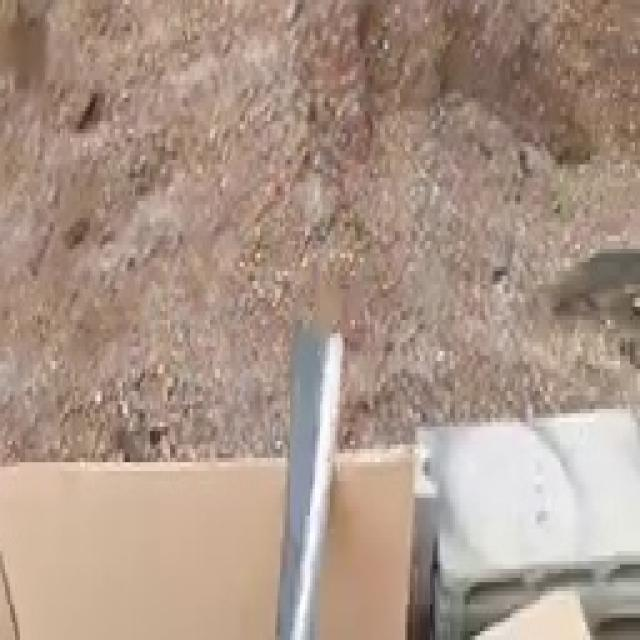eto: (278, 322, 344, 637)
